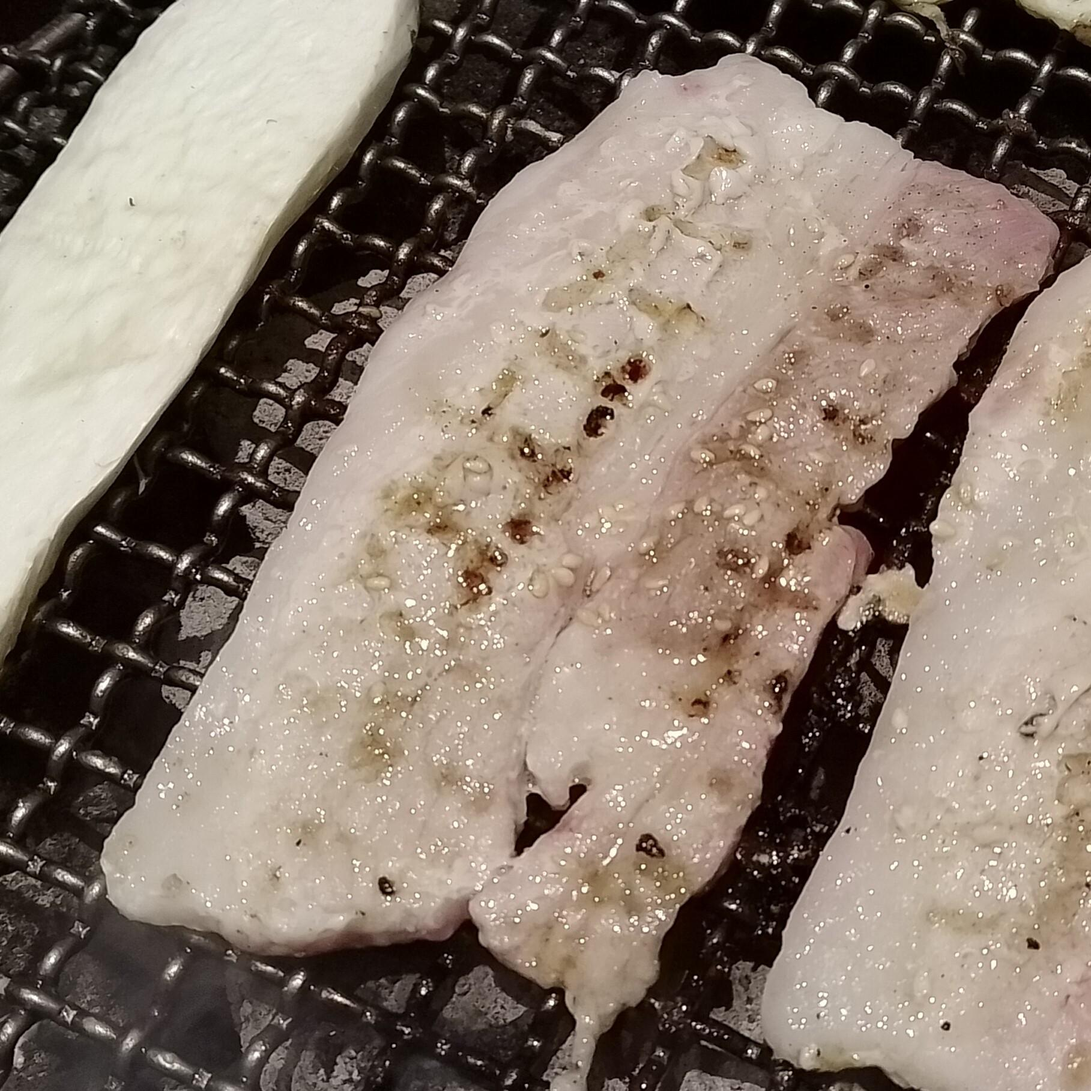Well-Cooked: (102, 56, 1057, 1090), (763, 257, 1090, 1090)
